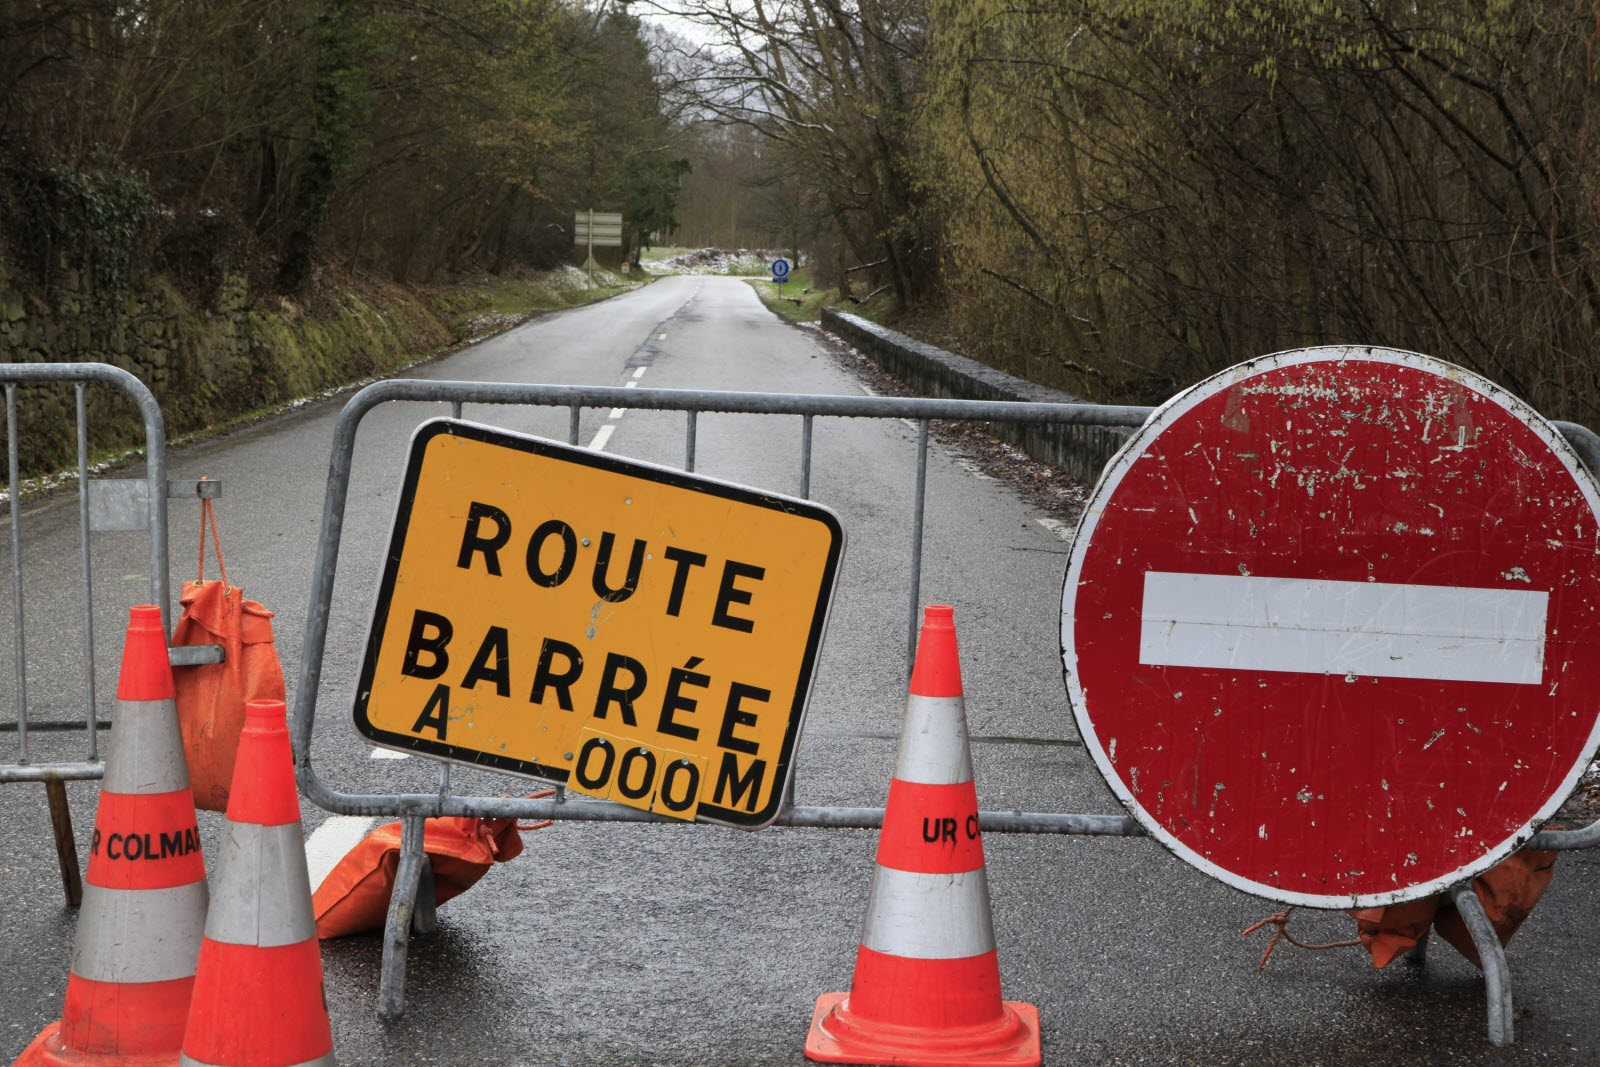obstacle: (324, 377, 1182, 834), (1062, 336, 1600, 918), (812, 591, 1054, 1067), (35, 600, 204, 1067), (189, 692, 338, 1067)
